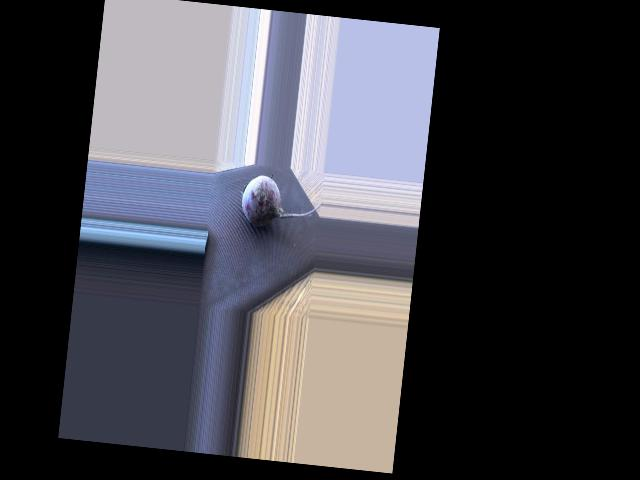beet: (239, 174, 323, 233)
